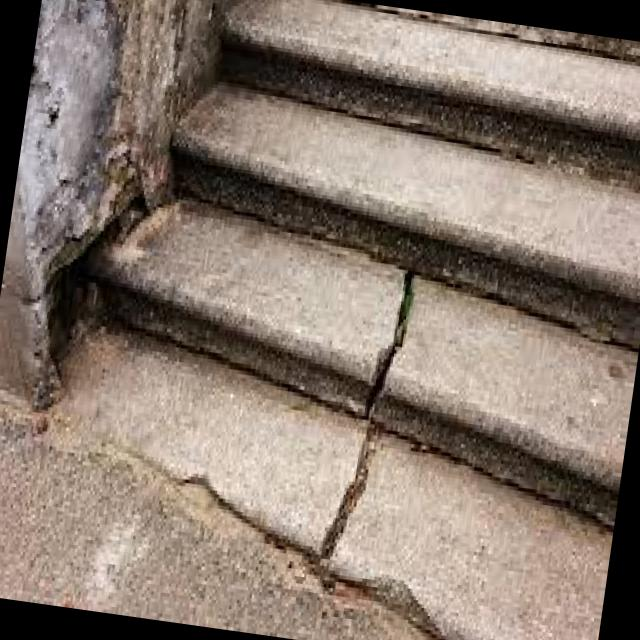crack: (310, 415, 382, 558), (358, 256, 419, 417)
